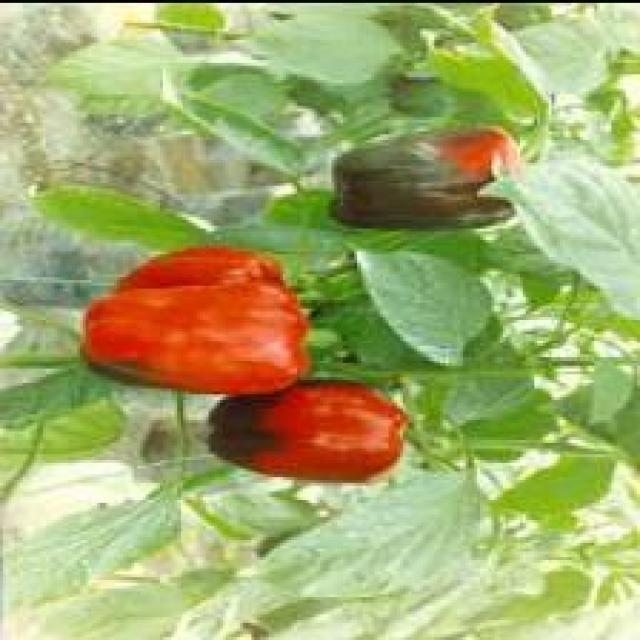Pepper: (77, 246, 311, 400), (203, 380, 411, 486), (329, 126, 526, 231)
